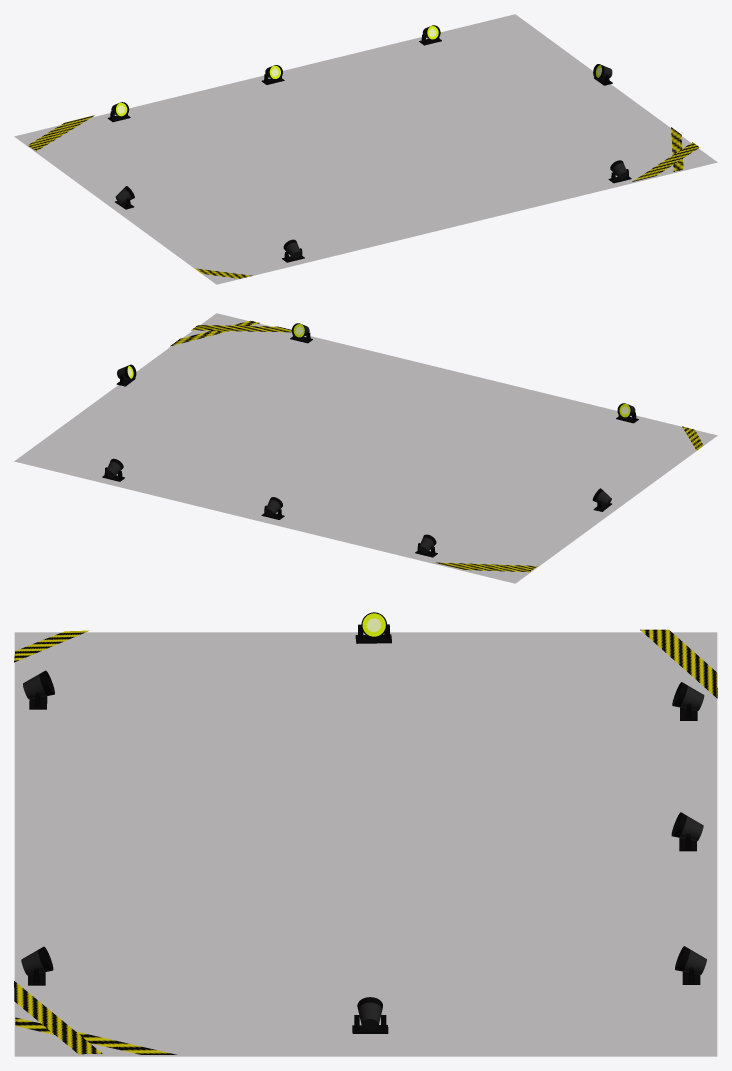
Rendered from ground.obj.
The picture shows the model from 3 angles, top to bottom: view 1: azimuth 30°, elevation 25°; view 2: azimuth 150°, elevation 25°; view 3: azimuth 270°, elevation 25°; orthographic projection. The views are drawn at different scales.
Visible parts, largest first — view 1: newground, teap2, teap4; view 2: newground, teap2, teap4; view 3: newground, teap2, teap4, teap3, teap1, 円柱.002.
Part boxes in pixels (left/top/right/bottom): newground: left=14, top=14, right=717, bottom=284; teap2: left=28, top=115, right=94, bottom=151; teap4: left=632, top=142, right=699, bottom=181; newground: left=14, top=313, right=717, bottom=583; teap2: left=435, top=562, right=537, bottom=572; teap4: left=191, top=325, right=291, bottom=332; newground: left=14, top=632, right=717, bottom=1056; teap2: left=640, top=629, right=717, bottom=698; teap4: left=14, top=981, right=102, bottom=1054; teap3: left=15, top=1017, right=176, bottom=1054; teap1: left=14, top=630, right=89, bottom=662; 円柱.002: left=357, top=997, right=382, bottom=1030.
Bounding box in the file's own units: 20.03 × 1.02 × 14.02.
Materials: 10 (10 with a texture image).
